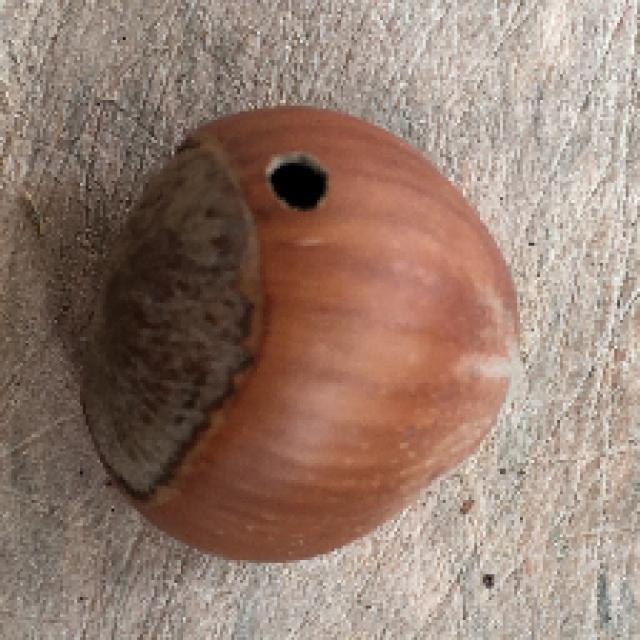DamagedHazelnut: (77, 108, 523, 563)
